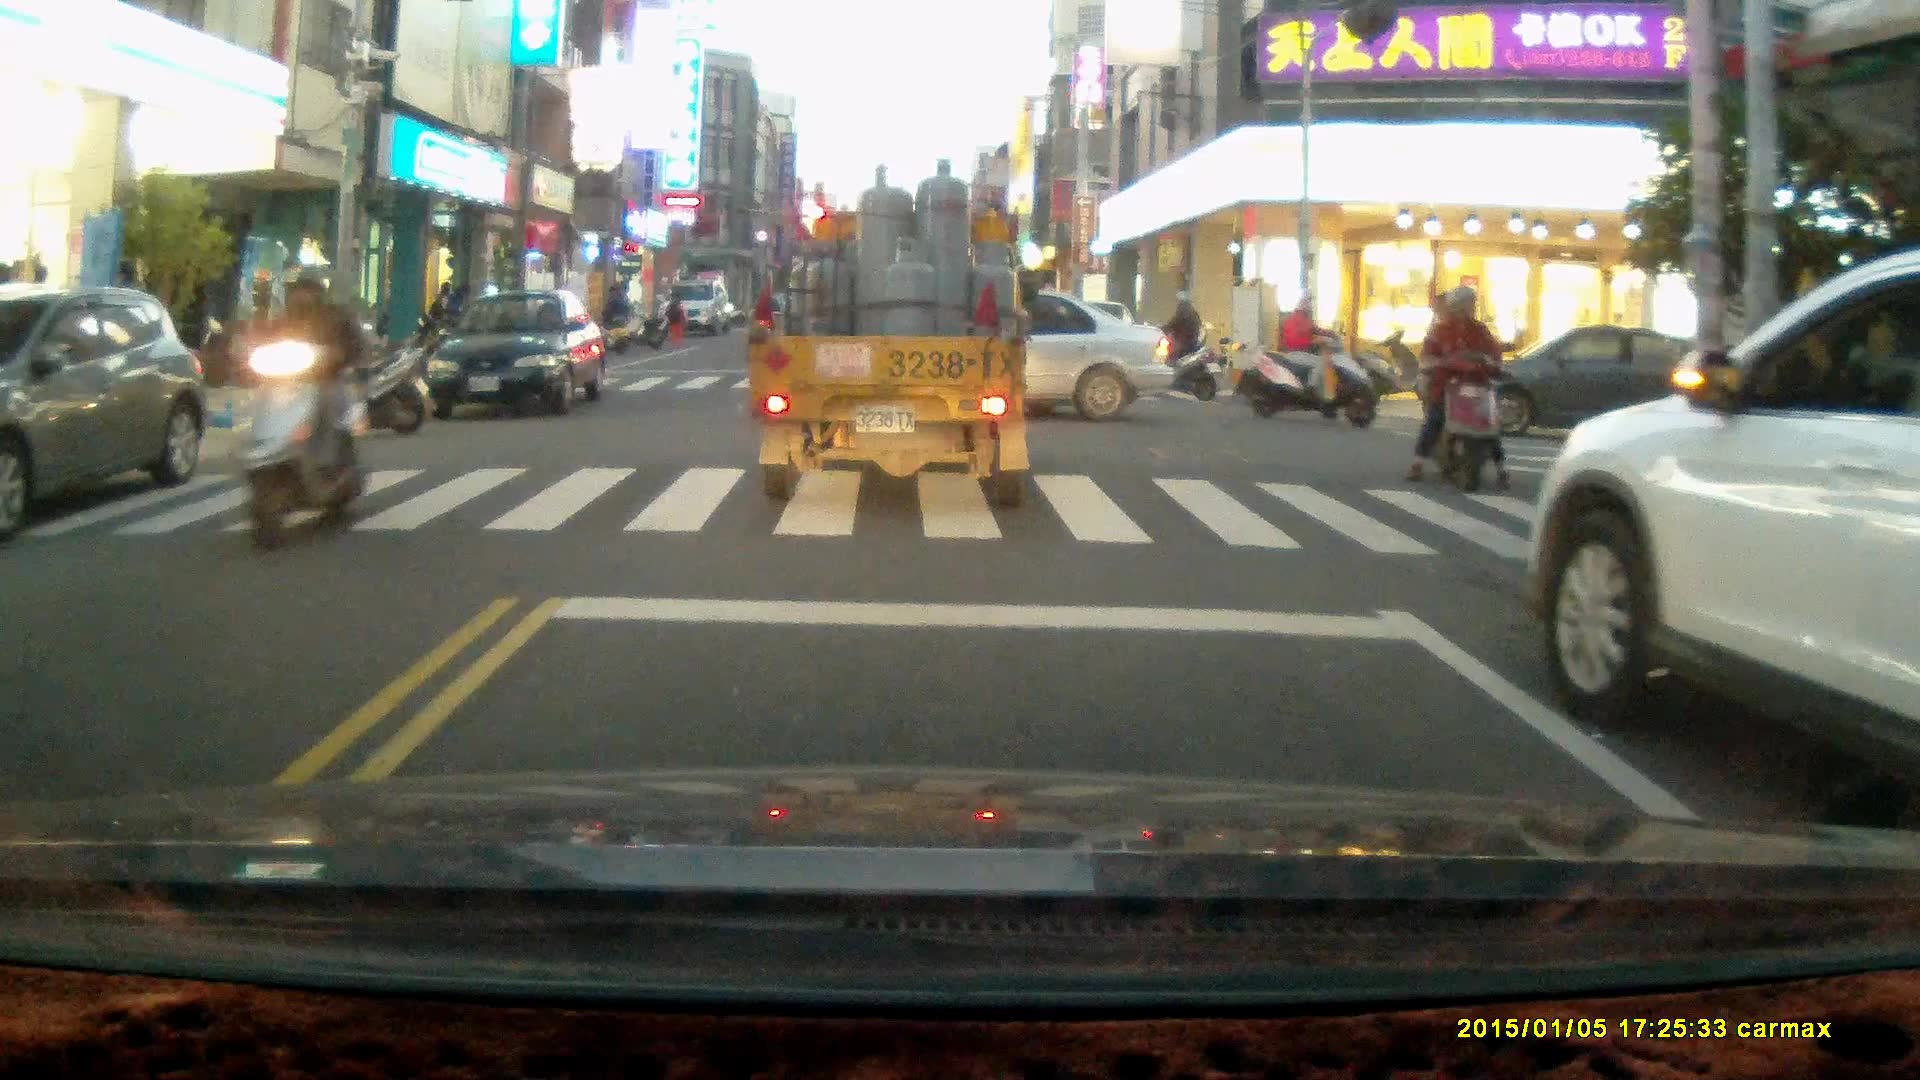pedestrian: (607, 279, 634, 342), (665, 289, 688, 346)
rider: (238, 260, 368, 550), (1404, 285, 1520, 498), (1243, 293, 1379, 427), (1125, 284, 1220, 403)
vehicle: (1526, 251, 1920, 803), (753, 159, 1033, 524), (775, 288, 1175, 423), (1456, 324, 1720, 438), (426, 292, 610, 417), (660, 282, 731, 336)
